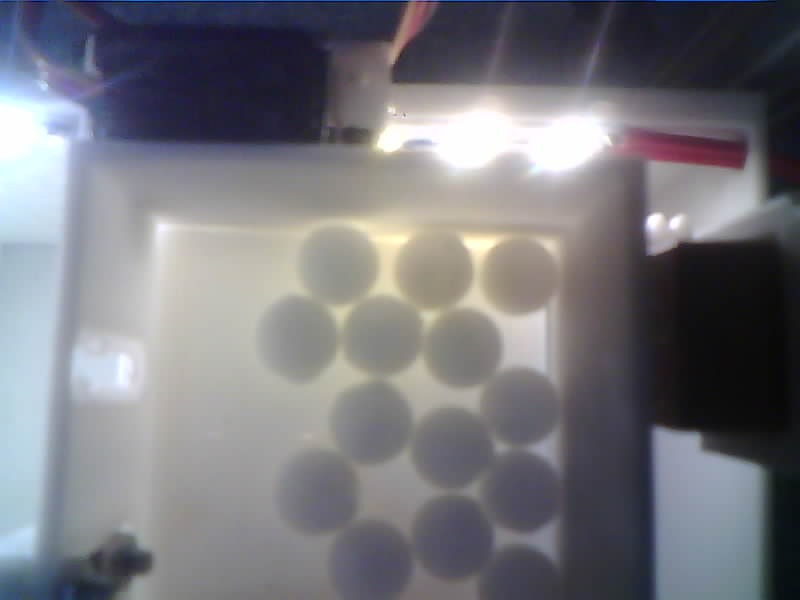Paper: (256, 293, 338, 382), (278, 449, 358, 539), (294, 223, 378, 302), (483, 452, 561, 532), (330, 522, 410, 600), (330, 385, 413, 460), (421, 306, 499, 384), (393, 231, 469, 311), (480, 240, 558, 316), (481, 366, 555, 446), (411, 497, 488, 572), (413, 407, 488, 482), (349, 296, 421, 369), (480, 547, 557, 600)
